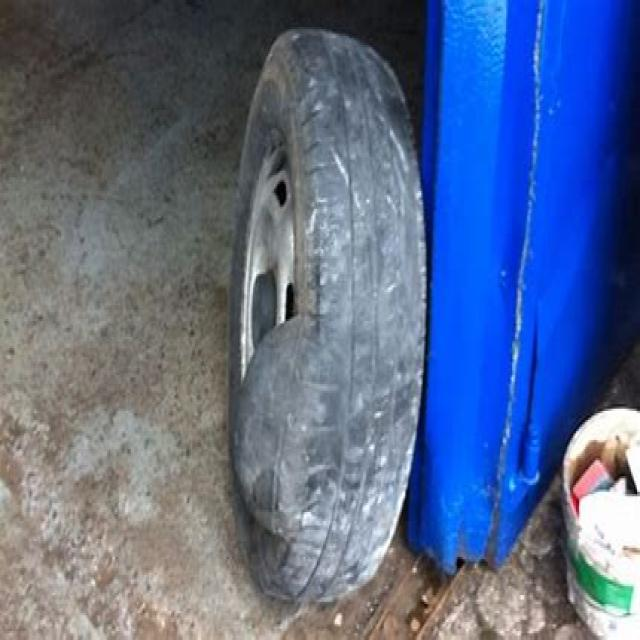Bulge: (225, 307, 338, 551)
